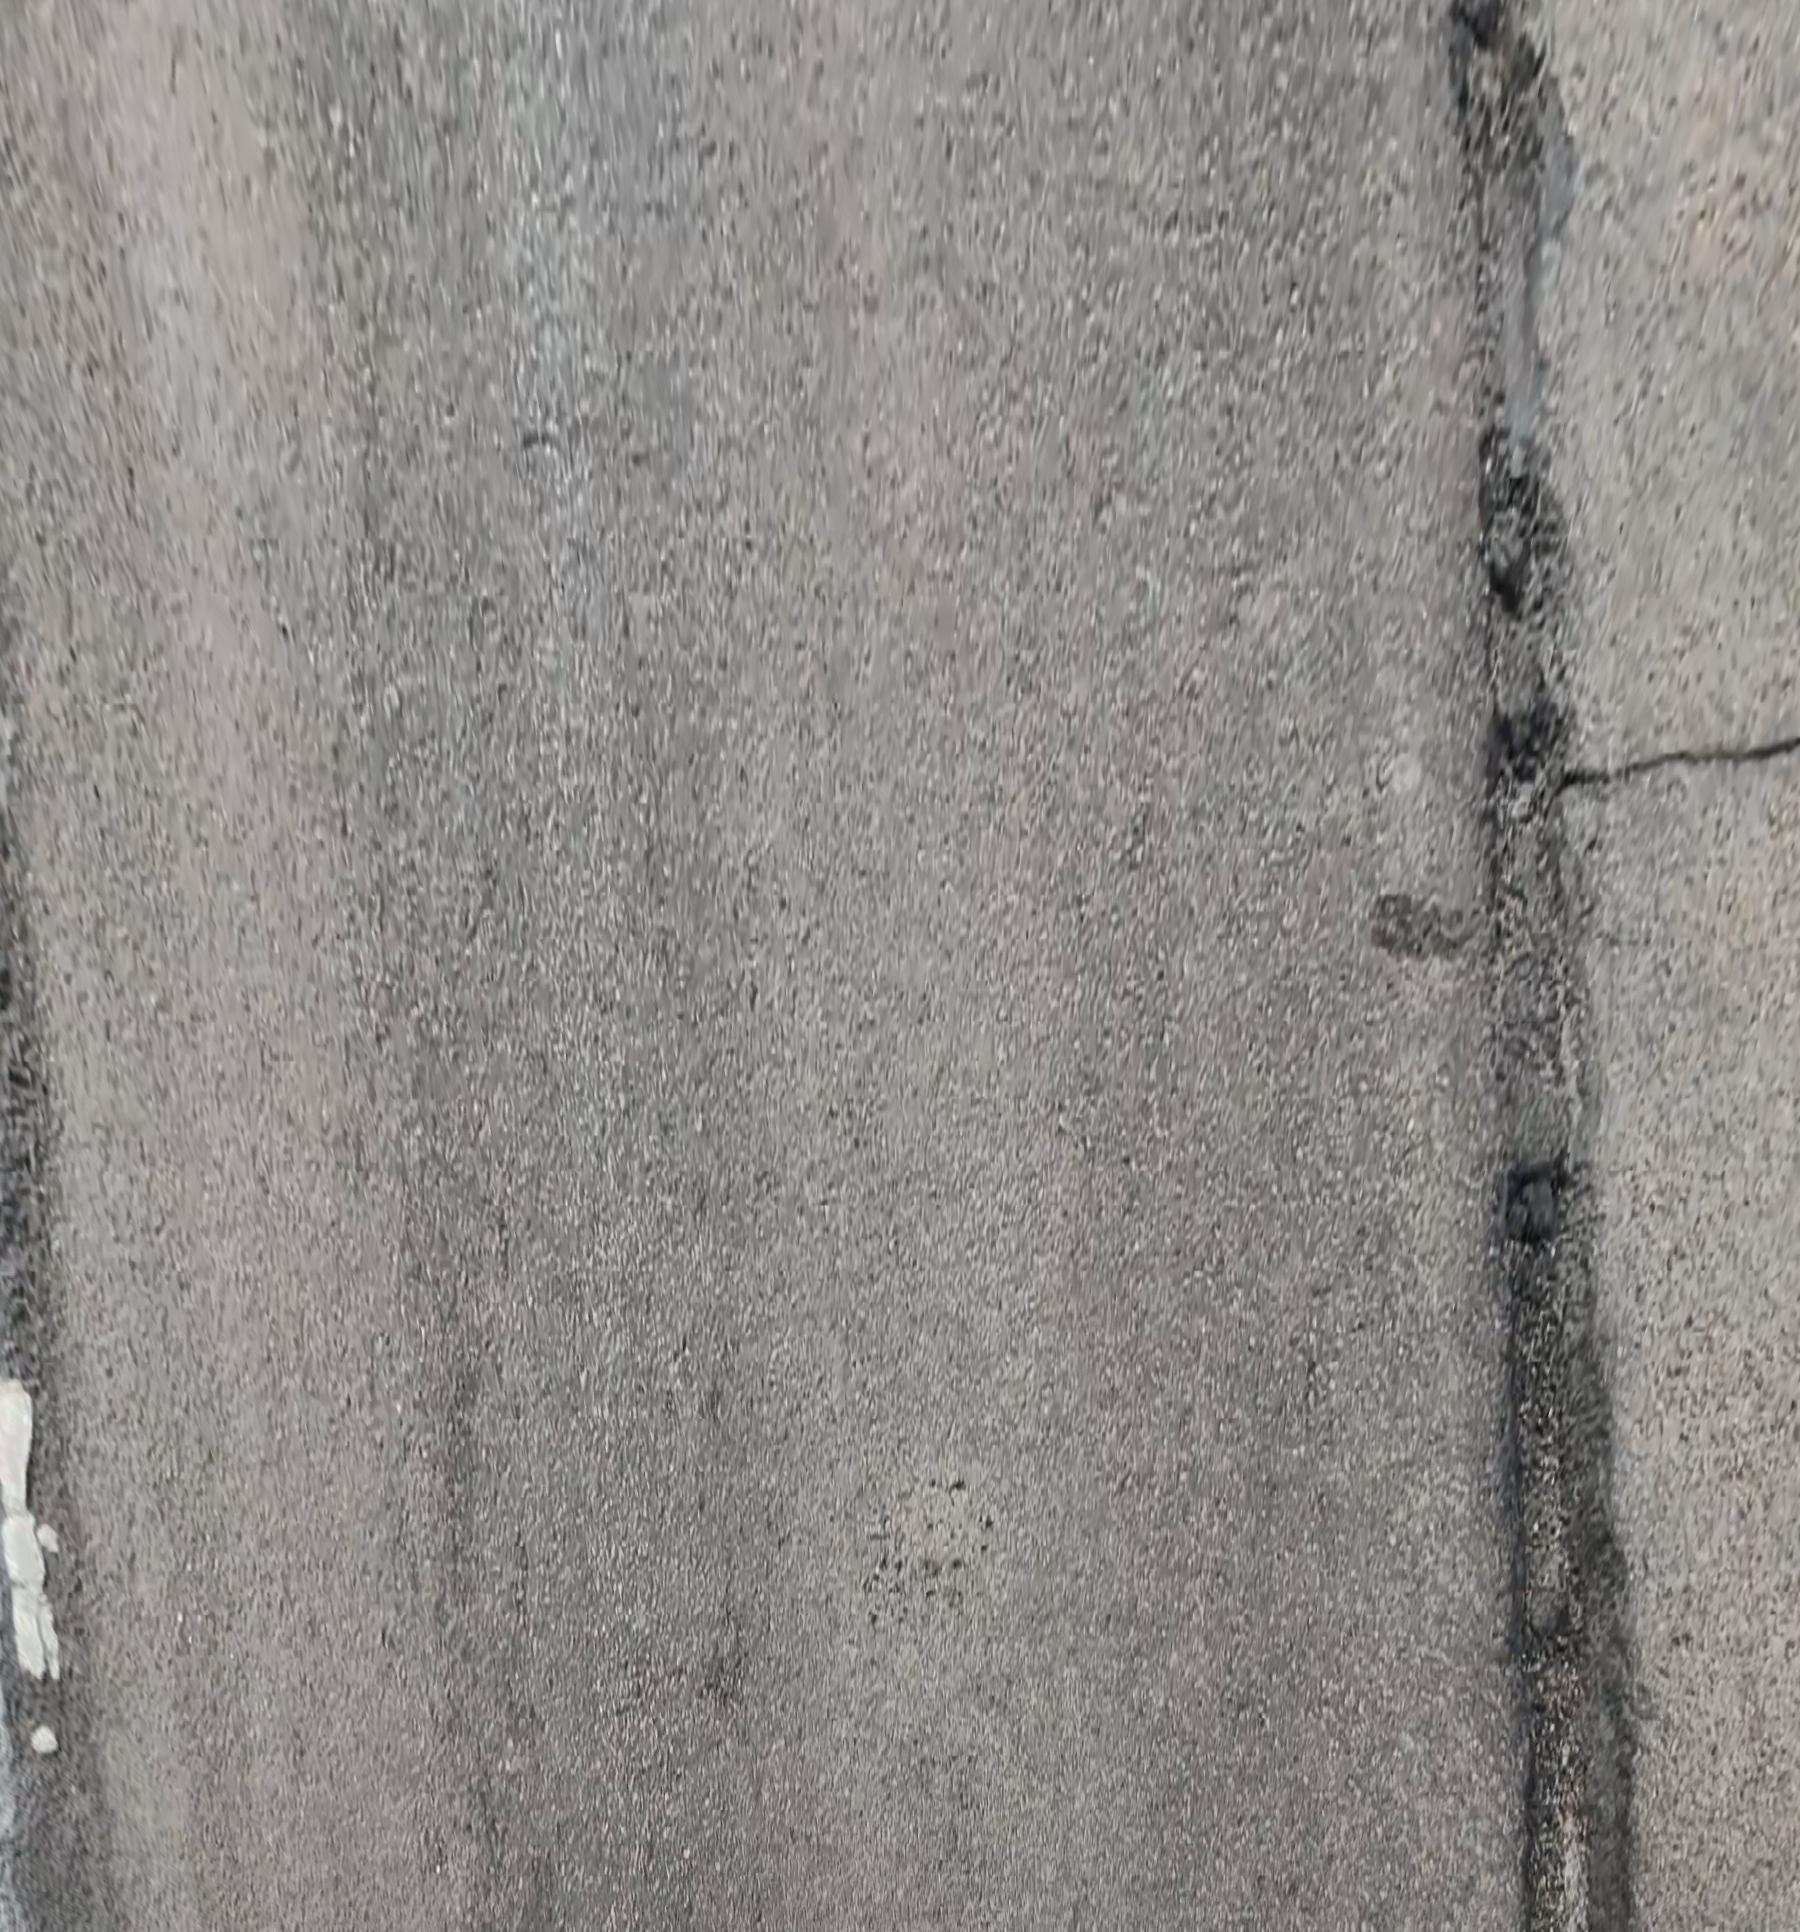pothole: (1502, 1172, 1636, 1930), (1470, 181, 1573, 851)
pothole_patch_poor: (1453, 0, 1631, 1932)
